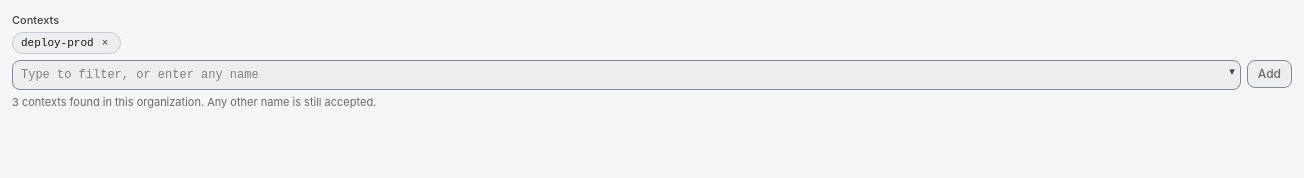
it: ContextField › does not offer a context that is already on this entry
Click the dropdown labelled "Contexts".
click(626, 75)  # box [12,60,1241,90]
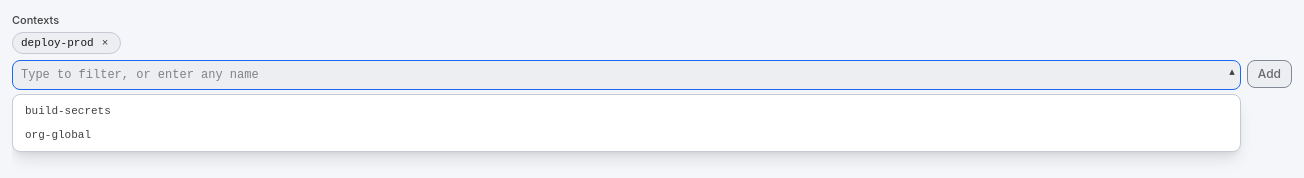
Result: the option "build-secrets" is shown at [17,99,1236,123]
